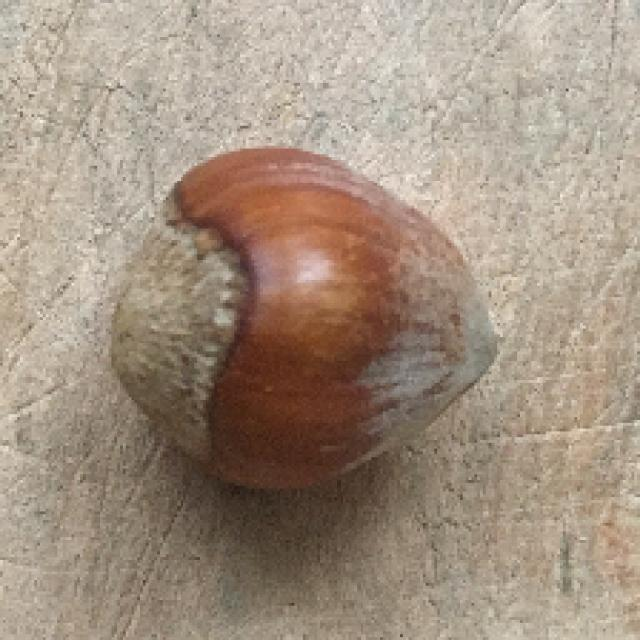qualityHazelnut: (108, 136, 508, 504)
